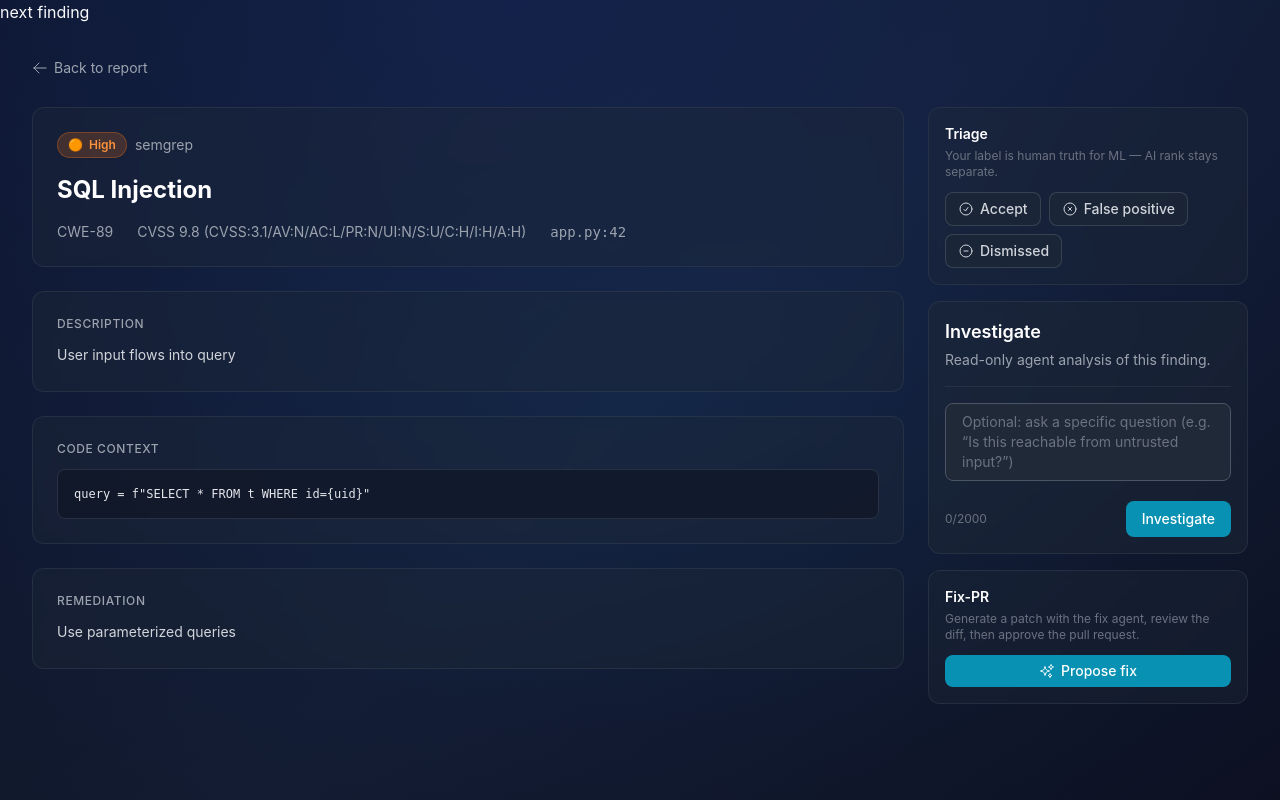
it: FindingDetail › resets the fix flow when navigating to another finding
Expected: the heading "SQL Injection" is shown, [57,175,212,204]
Click the button "Propose fix": (1088, 671) [945,655,1231,687]
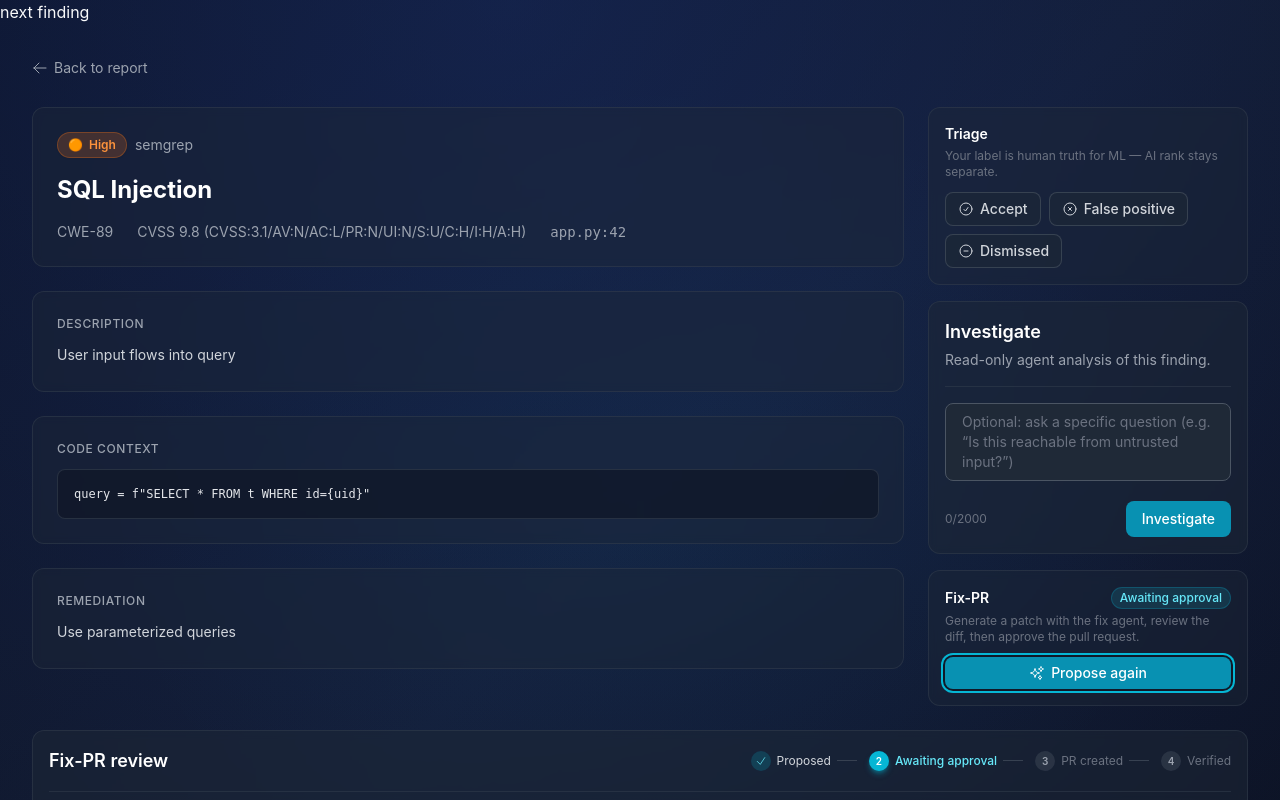
Result: the heading "Fix-PR review" is shown at [49,747,168,775]
Result: the text "Awaiting approval" below "2000" is shown at [1120,590,1222,605]
Click the link "next finding": (45, 12) [0,2,89,22]
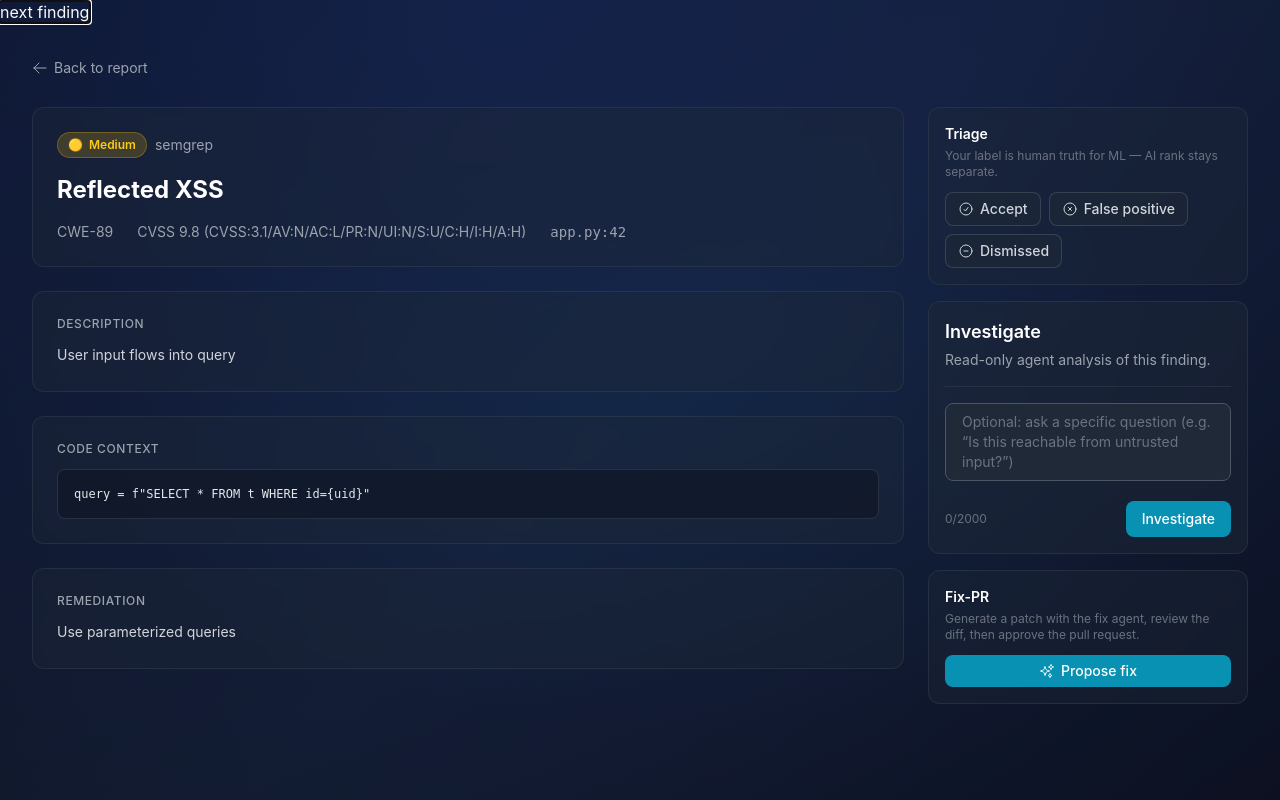
Result: the heading "Reflected XSS" is shown at [57,175,224,204]
Result: the heading "Fix-PR review" is gone
Result: the button "Propose fix" is shown at [945,655,1231,687]
